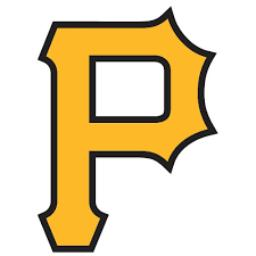p: (19, 6, 231, 256)
